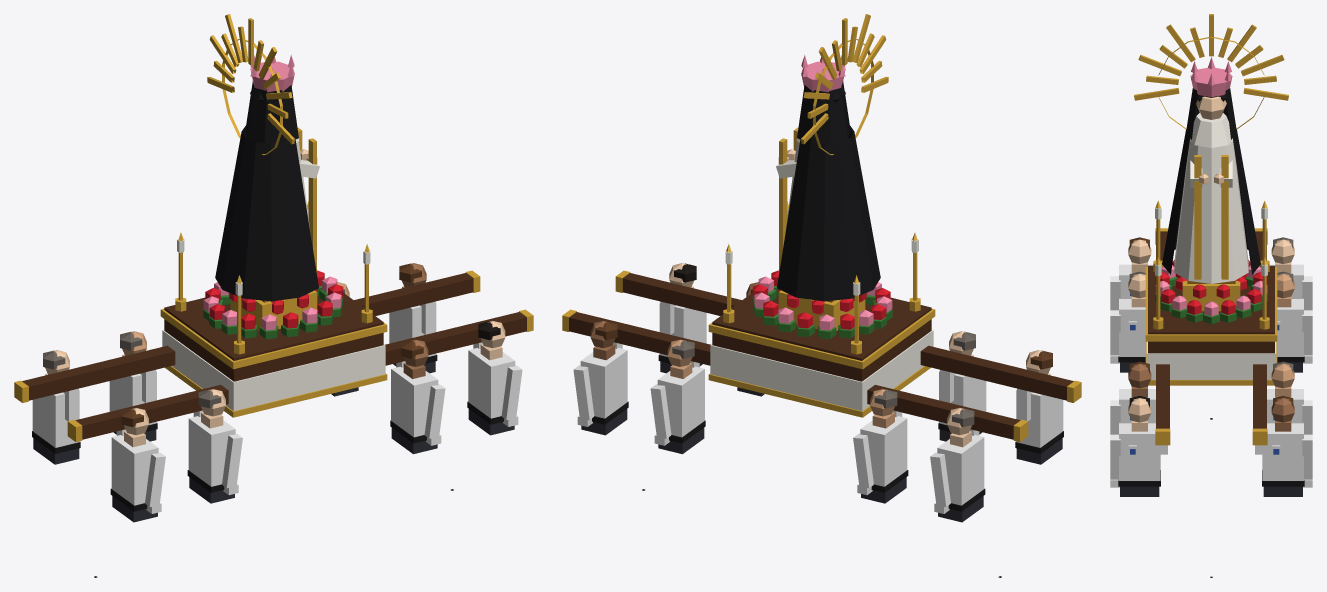
File: anda_santa_rosa_body.obj
3 renders of one model, left to right at view 1: azimuth 30°, elevation 25°; view 2: azimuth 150°, elevation 25°; view 3: azimuth 270°, elevation 25°, orthographic. The views are drawn at different scales.
Parts seen in each view (by area): view 1: anda, driver; view 2: anda, driver; view 3: anda, driver.
Part boxes in pixels (bbox=[...]): anda: bbox=[14, 14, 533, 577]; driver: bbox=[389, 263, 437, 373]; anda: bbox=[562, 14, 1081, 577]; driver: bbox=[573, 321, 628, 435]; anda: bbox=[1110, 14, 1312, 577]; driver: bbox=[1255, 396, 1312, 496].
Size of the model in its own units: 4.16 by 4.51 by 1.75.
